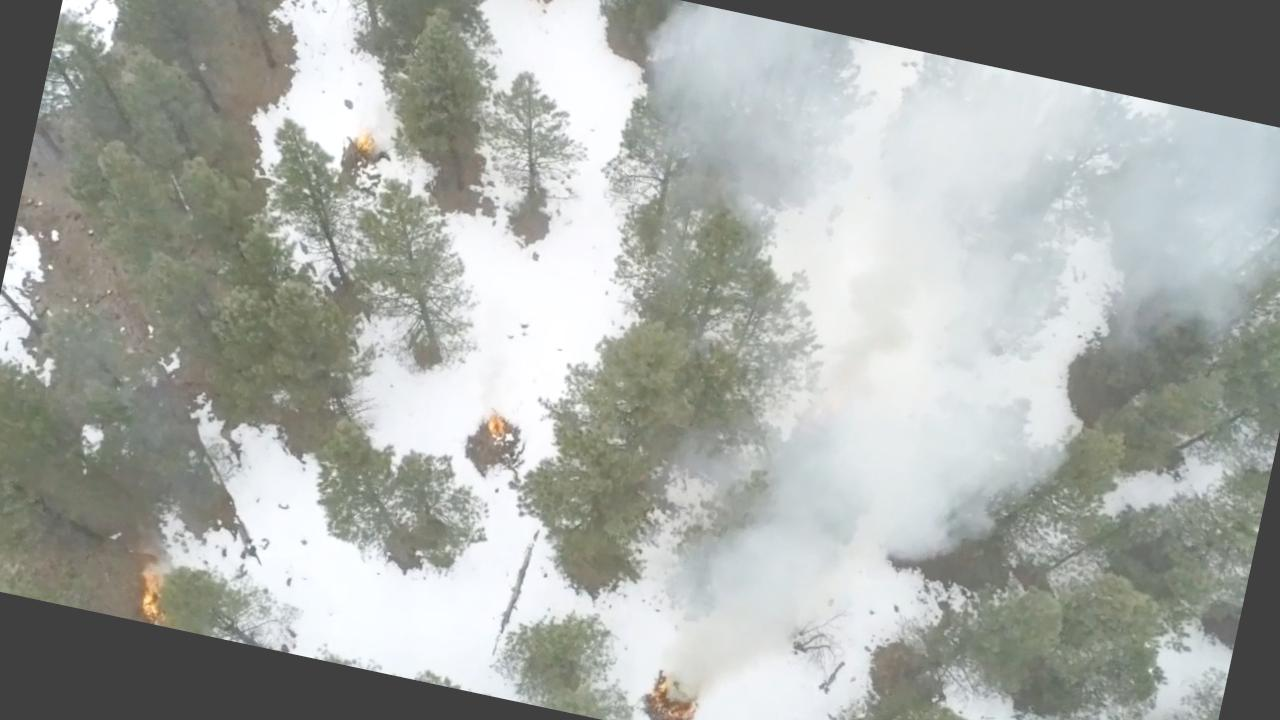fire: (636, 657, 720, 720), (128, 550, 166, 623), (479, 404, 516, 444), (347, 120, 380, 149)
smoke: (607, 0, 1280, 397), (708, 298, 1084, 591)
